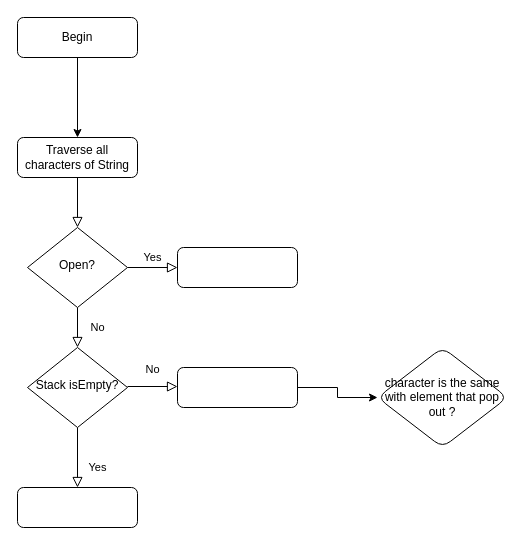
Some shapes in this 525 by 545 pixel diagram are drawn without their labels. Here are the shapes that lost their labels. From the top down, the centre of each, then its label:
At (237,267): "Push into Stack".
At (237,387): "Pop outside Stack".
At (77,507): "return false".
